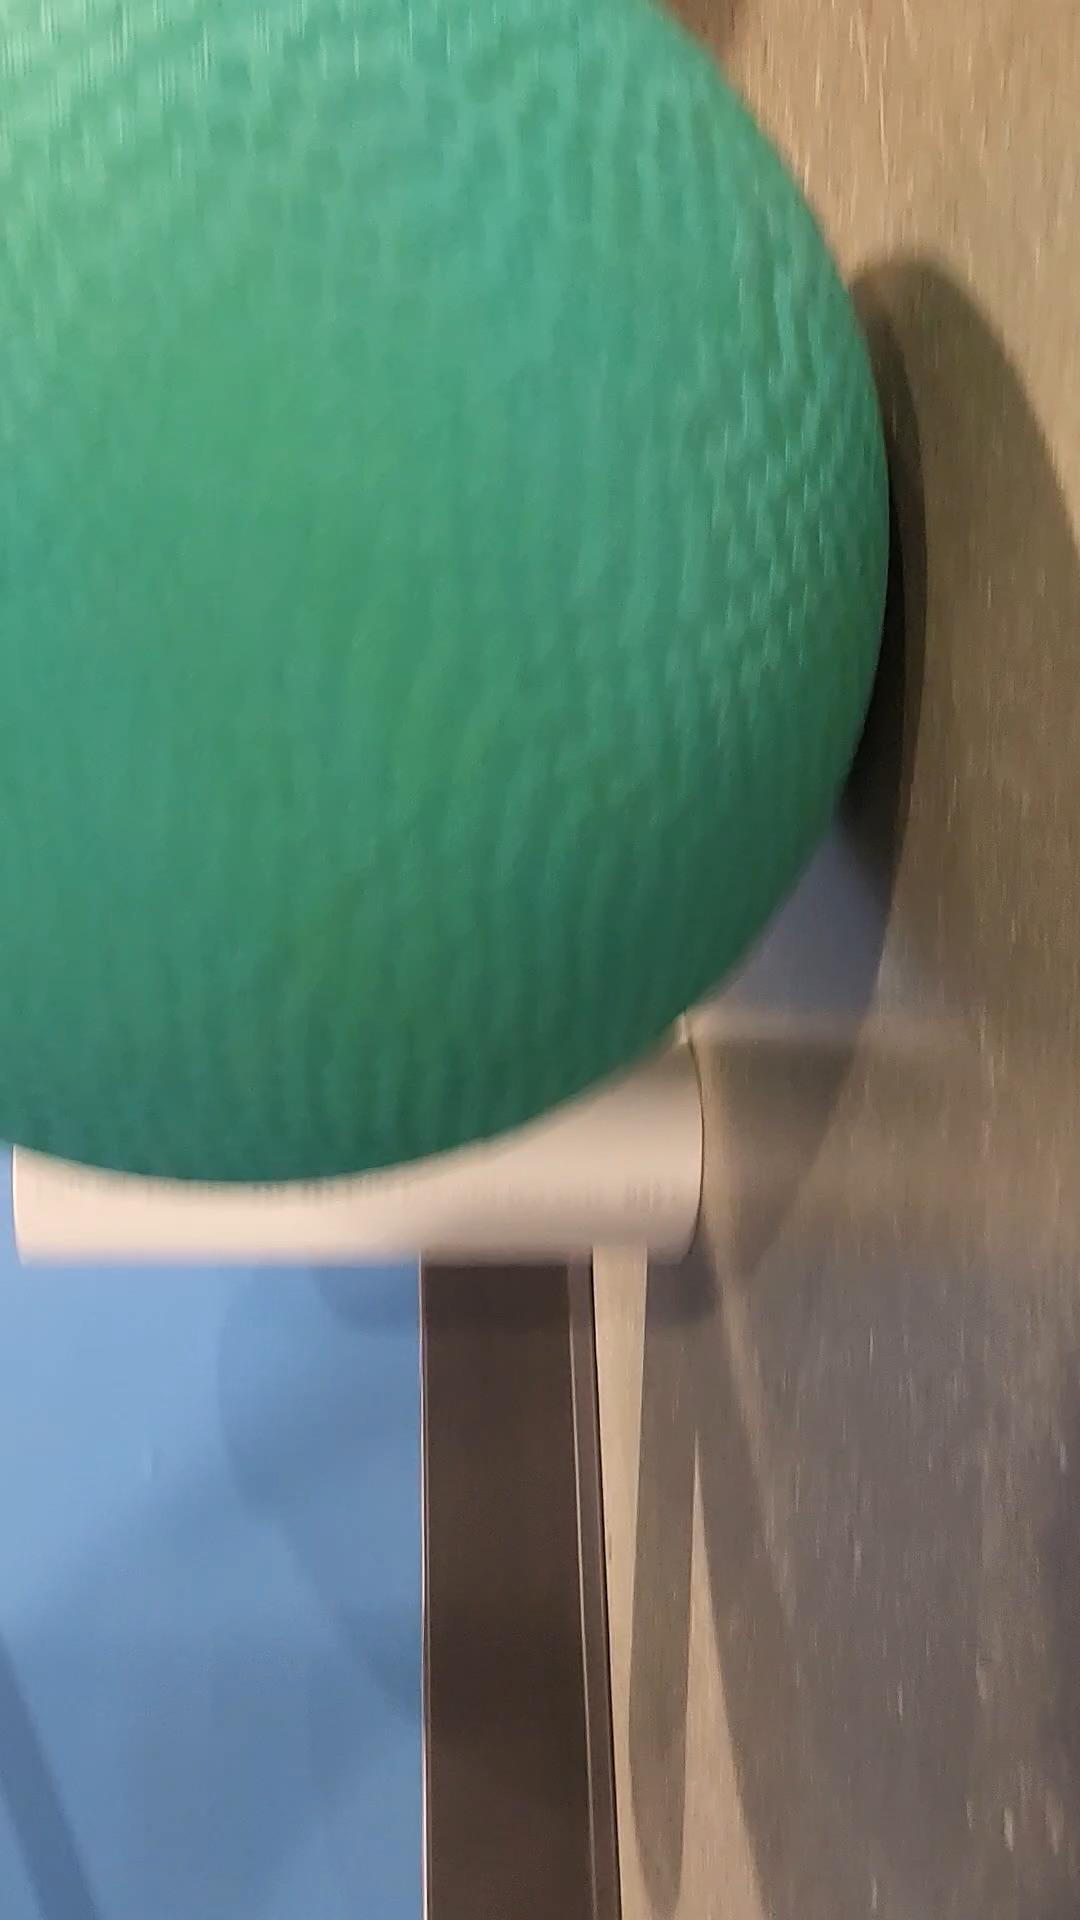algae: (0, 0, 910, 1187)
coral: (0, 1021, 713, 1298)
